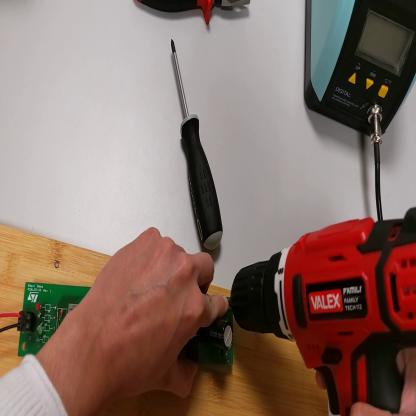electric screwdriver: (231, 207, 415, 416)
hand: (80, 227, 226, 404), (316, 347, 416, 414)
high voltage board: (1, 284, 235, 368)
pliers: (134, 1, 253, 28)
screwdriver-: (172, 40, 225, 258)
welder station: (302, 3, 415, 141)
working area: (1, 224, 329, 416)
